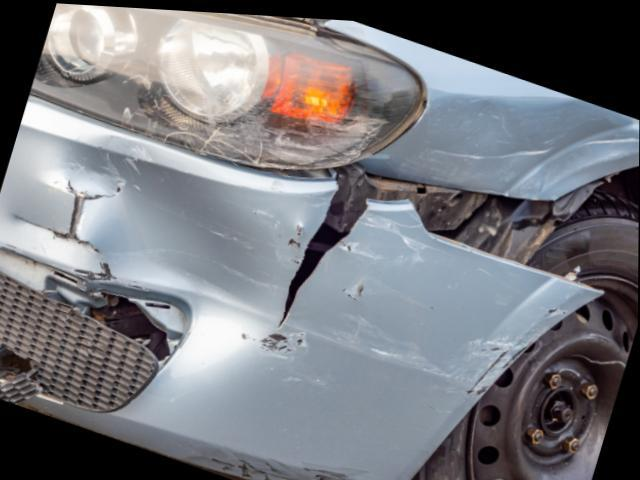crack: (278, 177, 370, 324), (11, 179, 120, 252)
dent: (61, 138, 279, 370), (388, 82, 640, 189)
dislocated part: (194, 156, 610, 480)
scratch: (250, 203, 573, 402), (186, 93, 389, 164), (182, 438, 385, 480)
